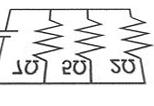resistor: (70, 15, 104, 56), (117, 17, 151, 56), (31, 16, 61, 58)
